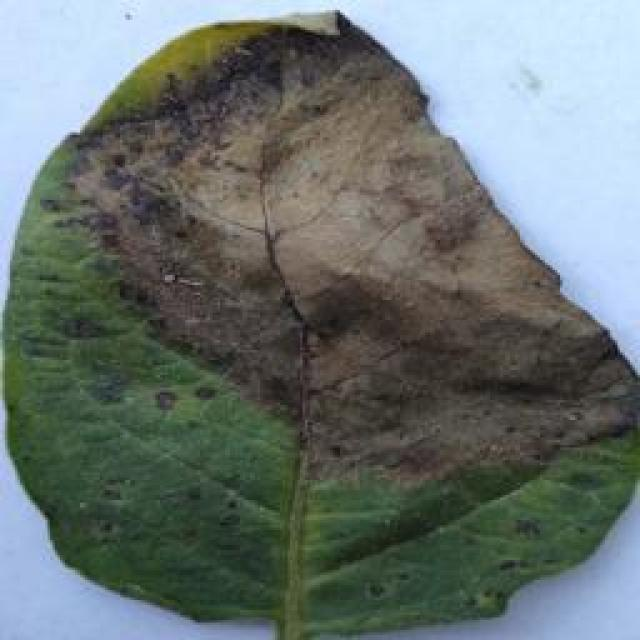Potato_Late_Blight: (2, 16, 633, 638)
